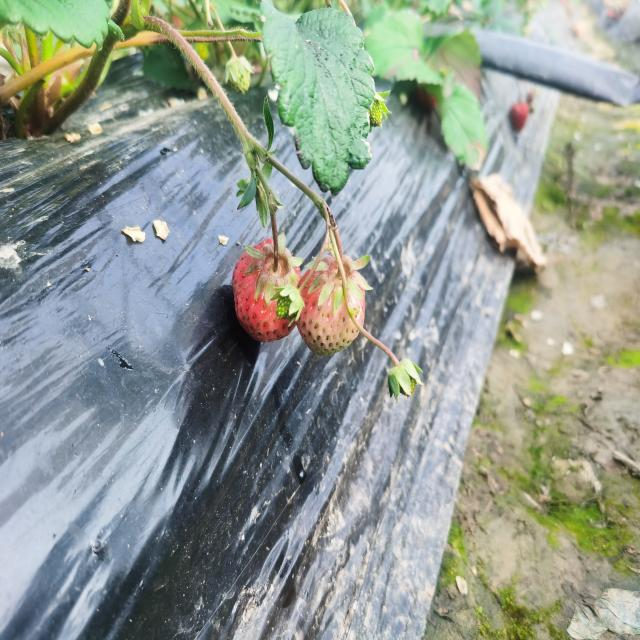stem: (271, 217, 279, 273)
strawberry: (232, 240, 301, 342), (297, 255, 359, 357), (344, 256, 365, 325)
